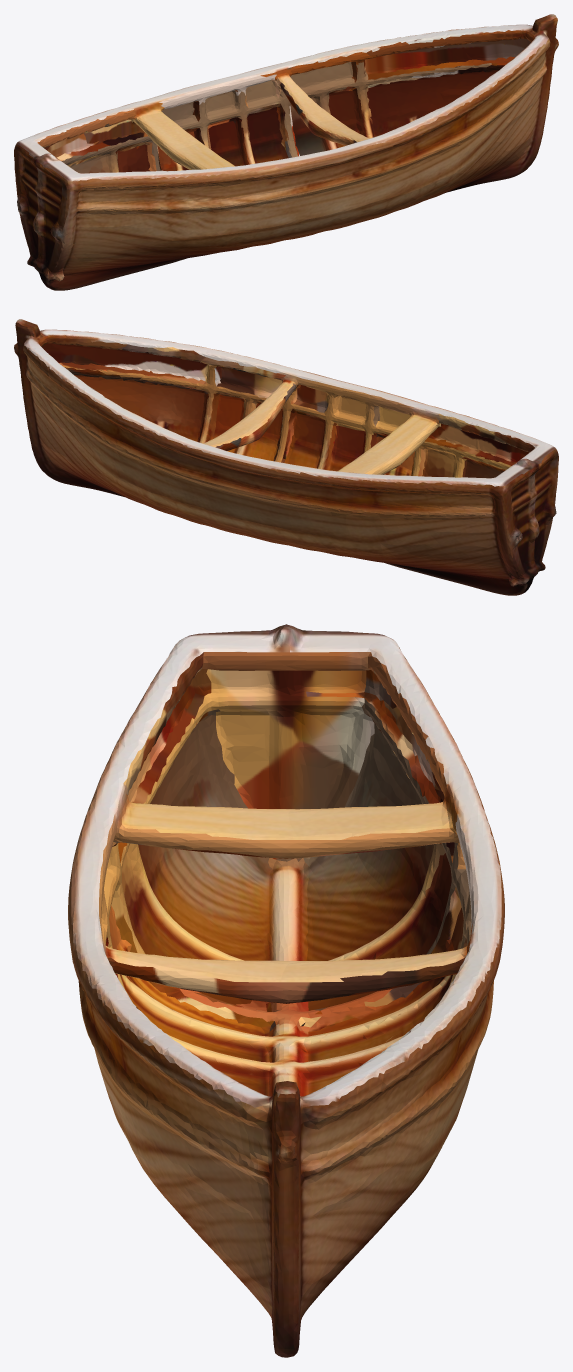
The model's file is mdl_boat_001.glb.
3 renders of one model, top to bottom at view 1: azimuth 30°, elevation 25°; view 2: azimuth 150°, elevation 25°; view 3: azimuth 270°, elevation 25°, orthographic. The views are drawn at different scales.
Parts seen in each view (by area): view 1: tmpal58q8t9.ply; view 2: tmpal58q8t9.ply; view 3: tmpal58q8t9.ply.
Part boxes in pixels (x1=…): tmpal58q8t9.ply: x1=14, y1=14, x2=558, y2=290; tmpal58q8t9.ply: x1=14, y1=319, x2=558, y2=595; tmpal58q8t9.ply: x1=68, y1=624, x2=504, y2=1357.
Bounding box in the file's own units: 0.9889 × 0.2814 × 0.3574.
Materials: 1 (1 with a texture image).
